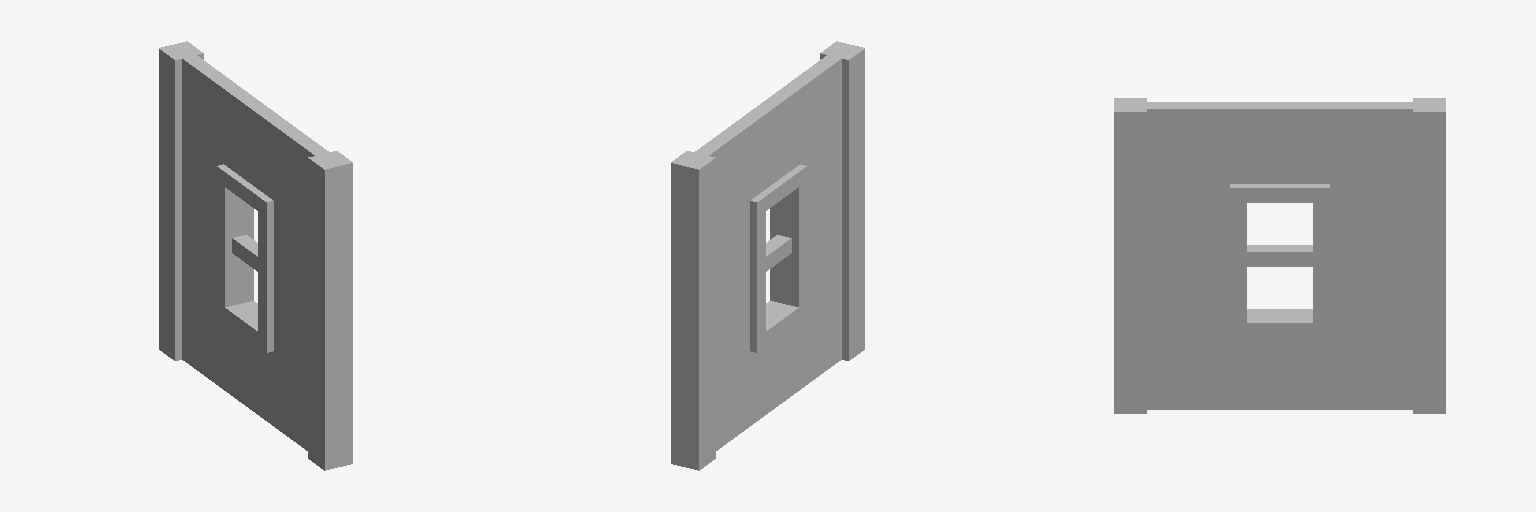
The model's file is wallWoodWindowGlass.obj.
The picture shows the model from 3 angles: view 1: azimuth 30°, elevation 25°; view 2: azimuth 150°, elevation 25°; view 3: azimuth 270°, elevation 25°; orthographic projection.
Parts seen in each view (by area): view 1: wallWoodWindowGlass; view 2: wallWoodWindowGlass; view 3: wallWoodWindowGlass.
Boxes of the visible parts, x1,y1,x2,y2 form: wallWoodWindowGlass: [159, 41, 352, 470]; wallWoodWindowGlass: [671, 41, 864, 470]; wallWoodWindowGlass: [1114, 98, 1445, 413].
Size of the model in its own units: 0.1 by 1 by 1.